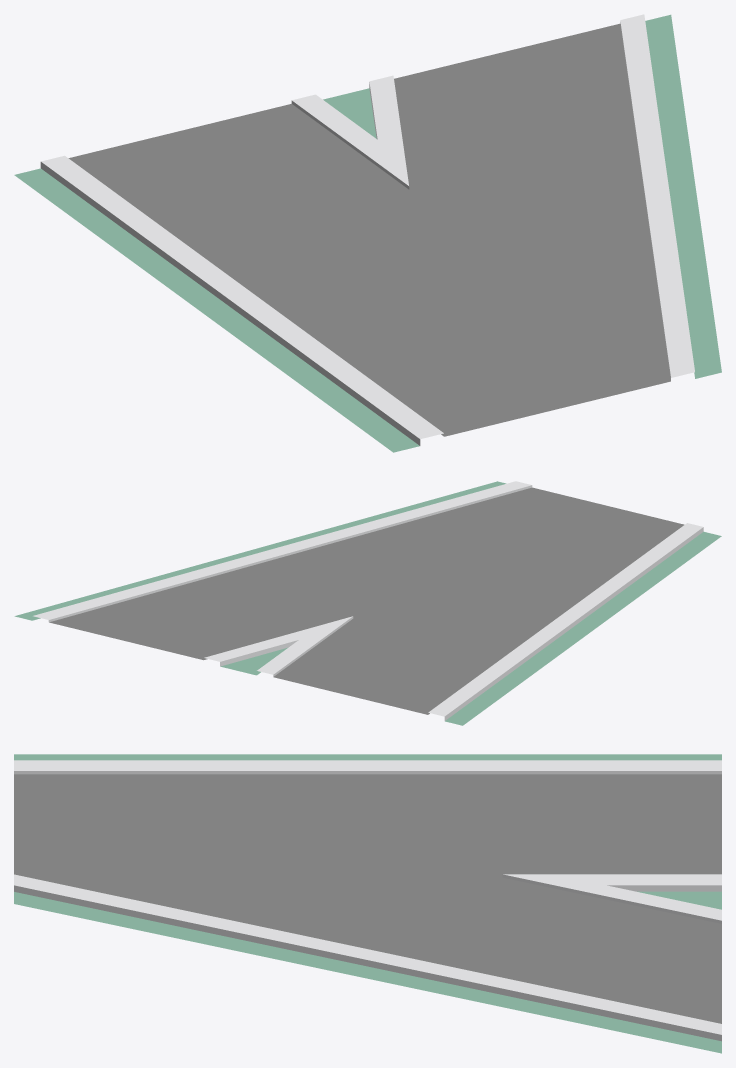
Rendered from roadPitEntry.glb.
The picture shows the model from 3 angles, top to bottom: view 1: azimuth 30°, elevation 25°; view 2: azimuth 150°, elevation 25°; view 3: azimuth 270°, elevation 25°; orthographic projection. The views are drawn at different scales.
Parts seen in each view (by area): view 1: roadPitEntry(Clone); view 2: roadPitEntry(Clone); view 3: roadPitEntry(Clone).
Boxes of the visible parts, left/top/right/bottom form: roadPitEntry(Clone): left=14, top=14, right=721, bottom=452; roadPitEntry(Clone): left=14, top=481, right=721, bottom=725; roadPitEntry(Clone): left=14, top=754, right=721, bottom=1053.
Bounding box in the file's own units: 2 × 0.02 × 2.
